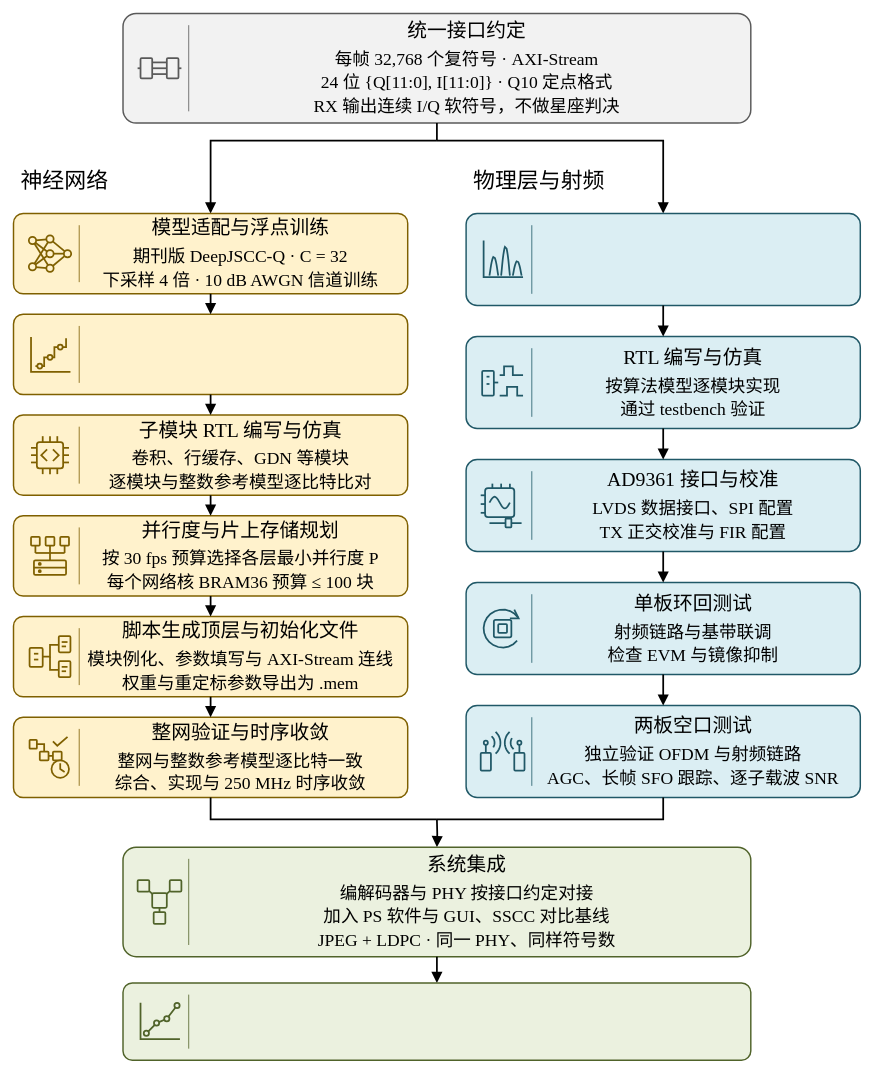
The diagram is 873 pixels wide and 1073 high, and some of its shapes have lost their labels. Here are the shapes that lost their labels. From the top down, the centre of each, then its label:
At [663,259]: "OFDM 收发算法仿真 帧检测、定时与 SFO 跟踪 确定检测、定时门限与跟踪环参数".
At [210,354]: "W8A12 训练后量化 建立整数参考模型 明确舍入、饱和与非线性算法".
At [436,1021]: "整机空口实测 PSNR–SNR 曲线 · 帧率 · PL 时延 · 功耗 · SSCC 对比".
